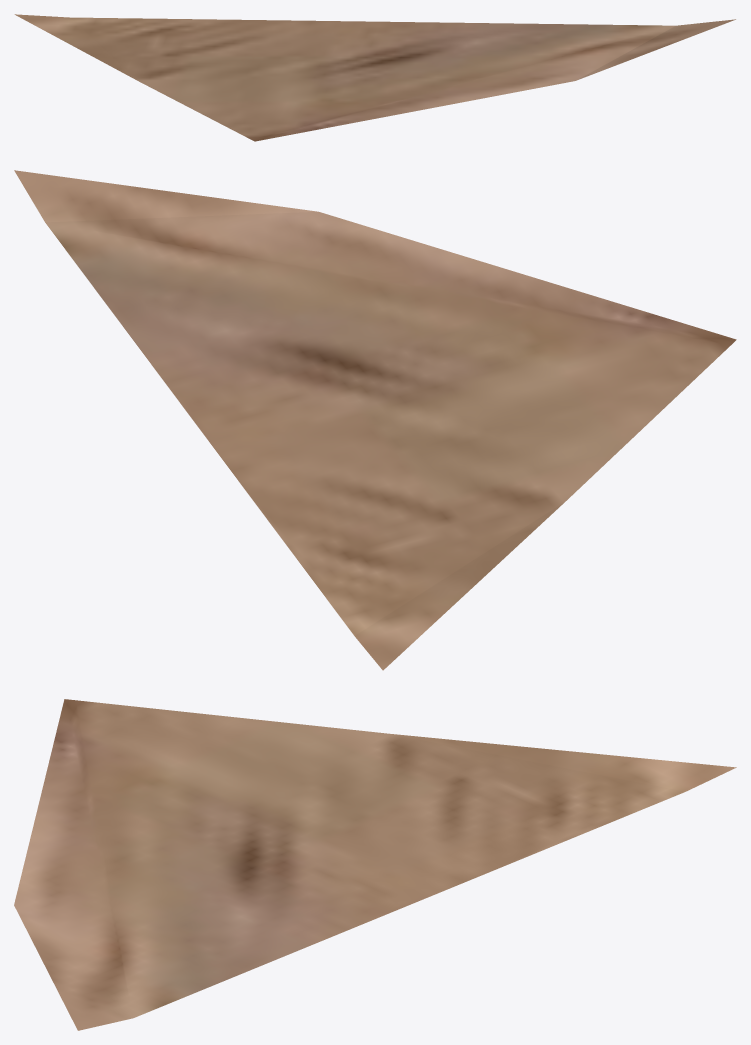
3 renders of one model, top to bottom at view 1: azimuth 30°, elevation 25°; view 2: azimuth 150°, elevation 25°; view 3: azimuth 270°, elevation 25°, orthographic. The views are drawn at different scales.
Size of the model in its own units: 0.5326 by 0.0512 by 0.4903.
1 material, 1 textured.
